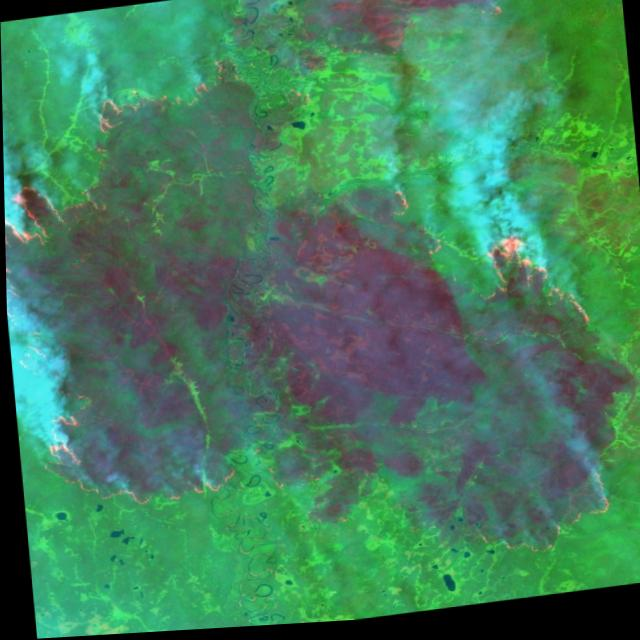fire: (1, 55, 279, 524), (472, 225, 596, 351), (449, 0, 526, 34)
